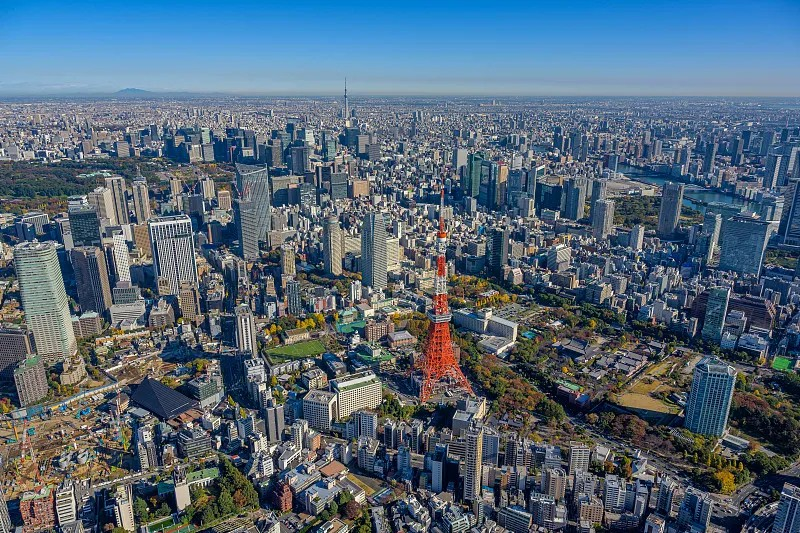Tokyo: (404, 173, 478, 404)
